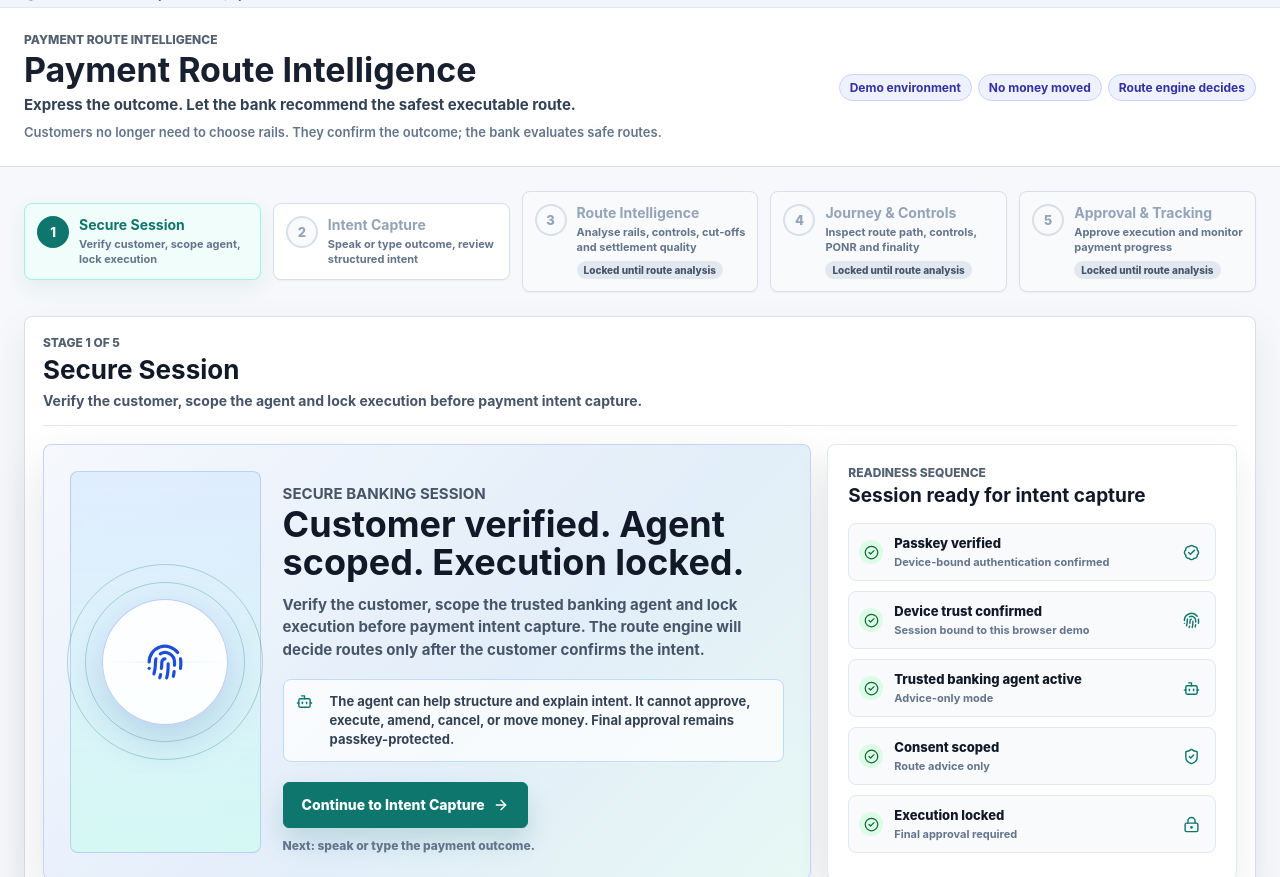
Secure Session initial visibility › renders a visible first stage and opens Intent Capture from the primary CTA
Expected: the text "Secure Session" is shown, [79,216,185,233]
Expected: the text "Stage 1 of 5" is shown, [43,335,120,350]
Click the button "Continue to Intent Capture".
click(405, 804)  # box [283,782,528,828]
(page scrolled)
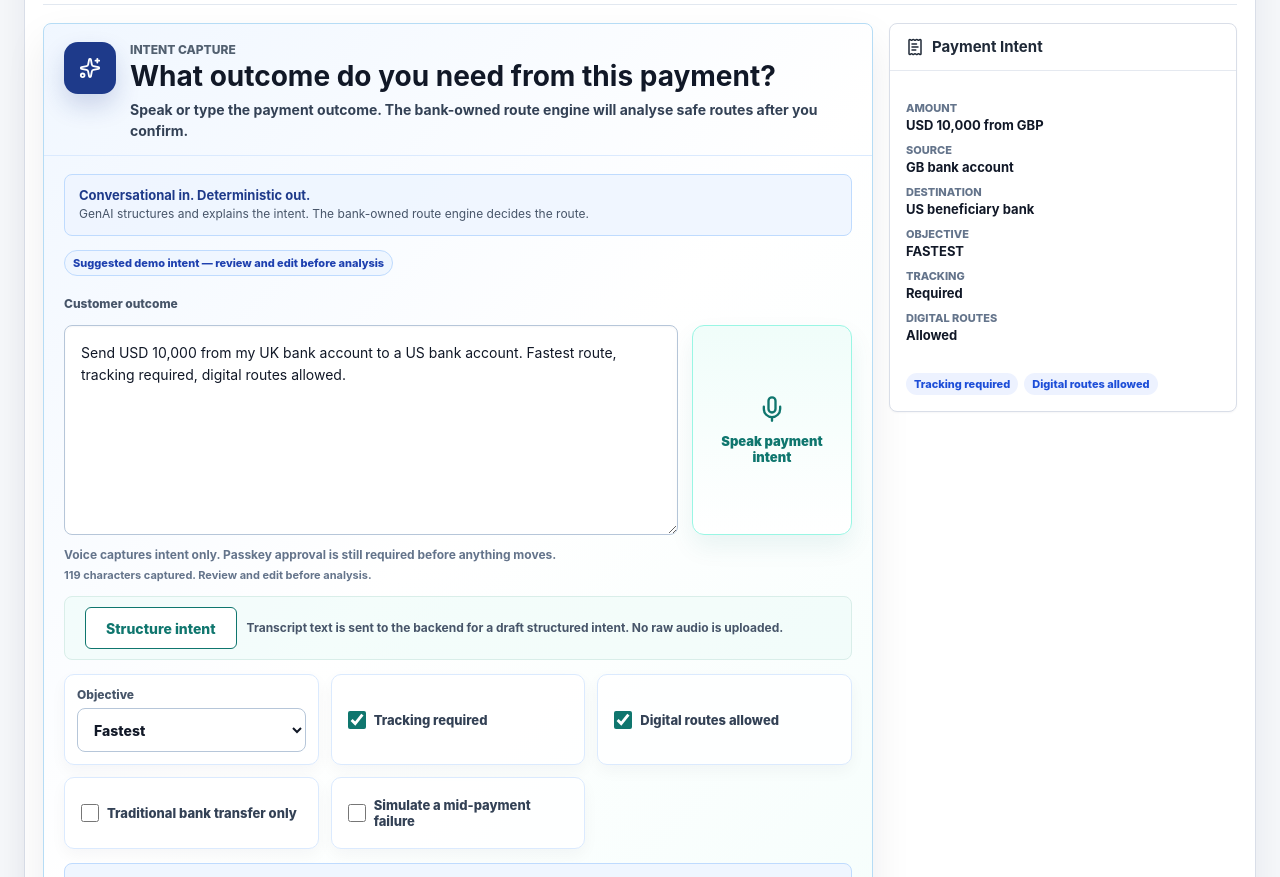
Expected: the text box labelled "Customer outcome" is shown, [64,325,678,535]
Expected: the button "Speak payment intent" is shown, [692,325,852,535]
